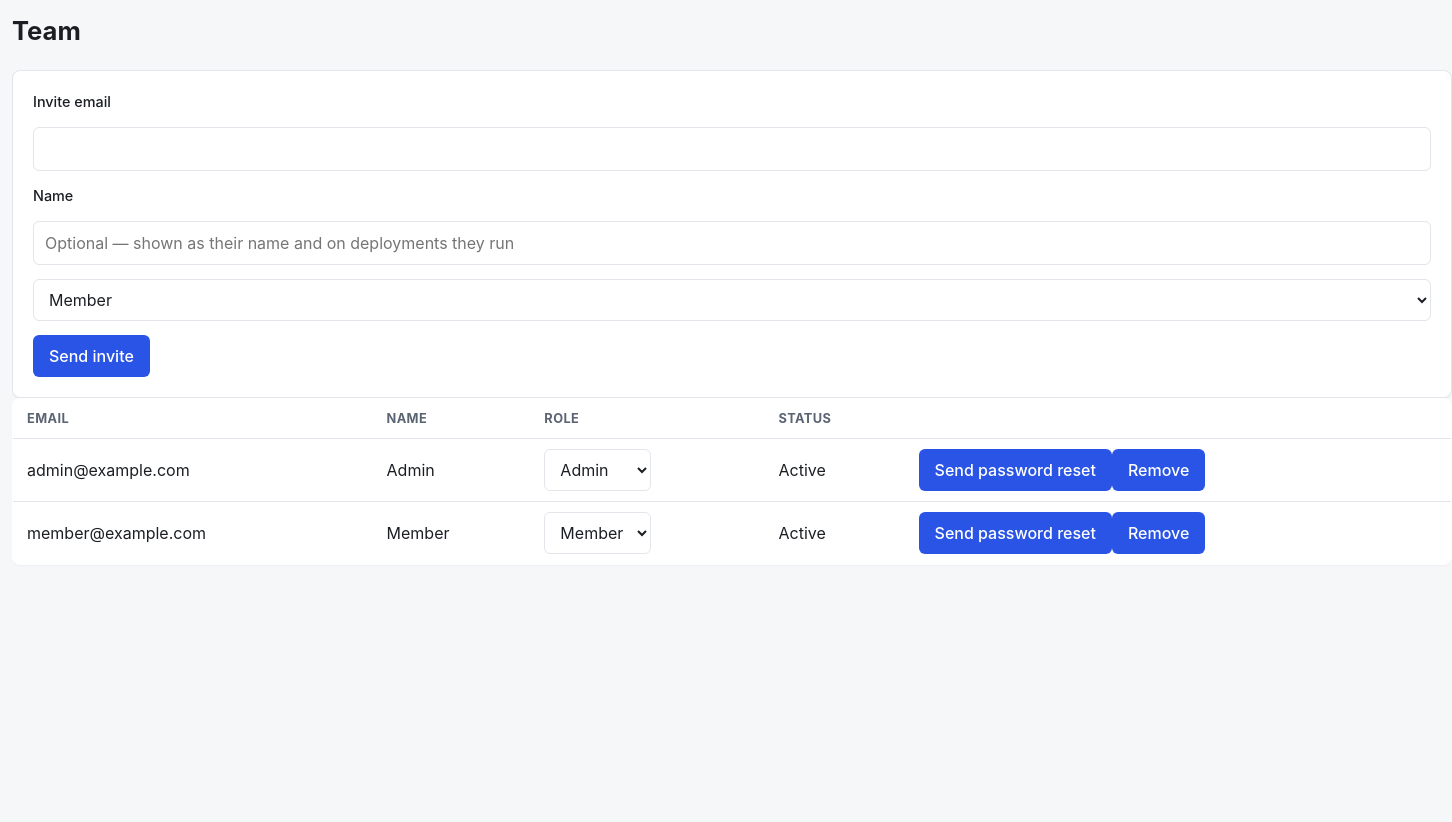
Test case: Team › sends a password reset email for a member
The image size is (1452, 822).
Click the button "Send password reset" in the row of "member@example.com" at {"x": 1015, "y": 533}, box [918, 512, 1112, 554]
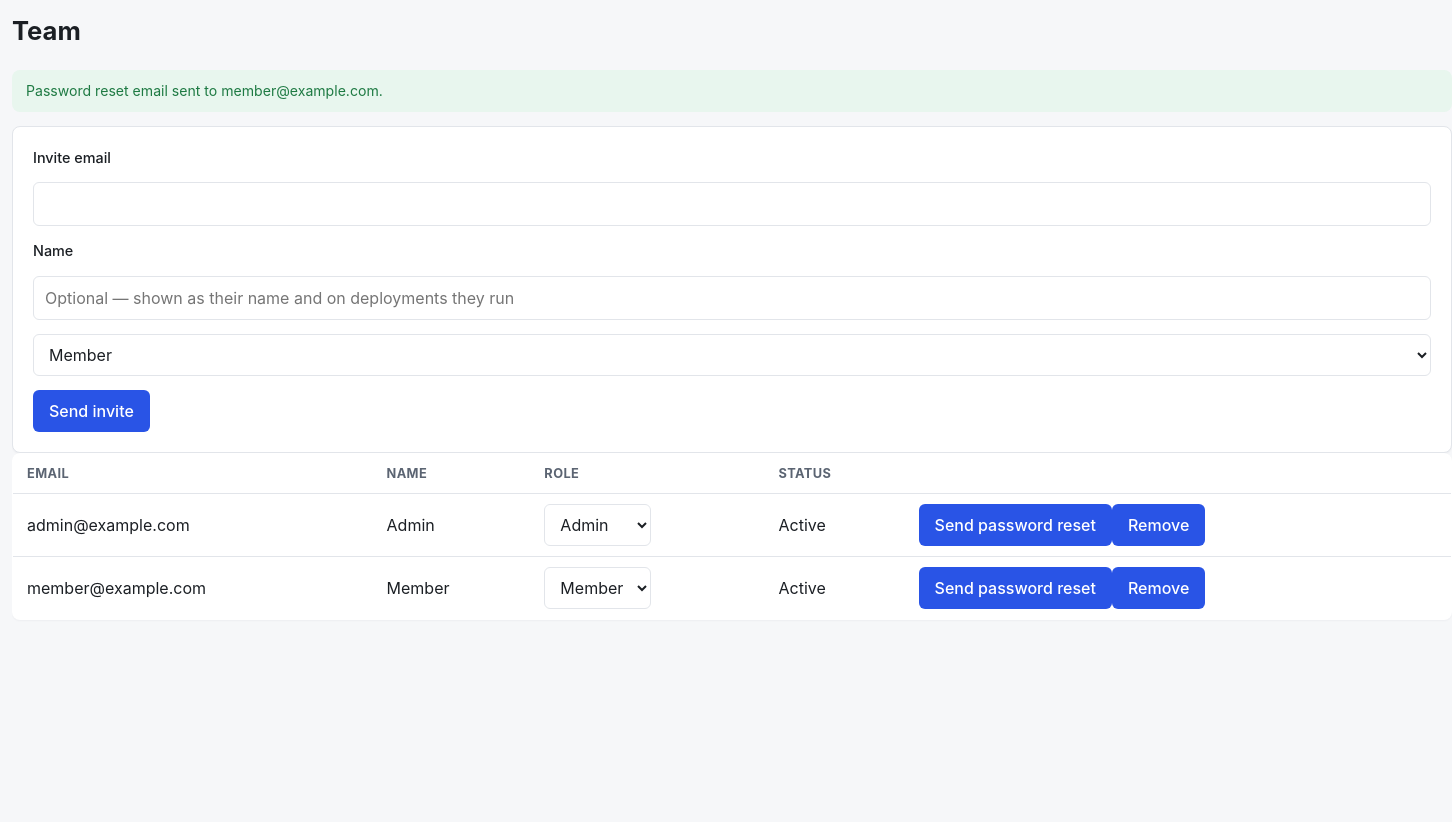
Expected: the text "Password reset email sent to member@example.com." is shown, [12, 70, 1451, 112]
